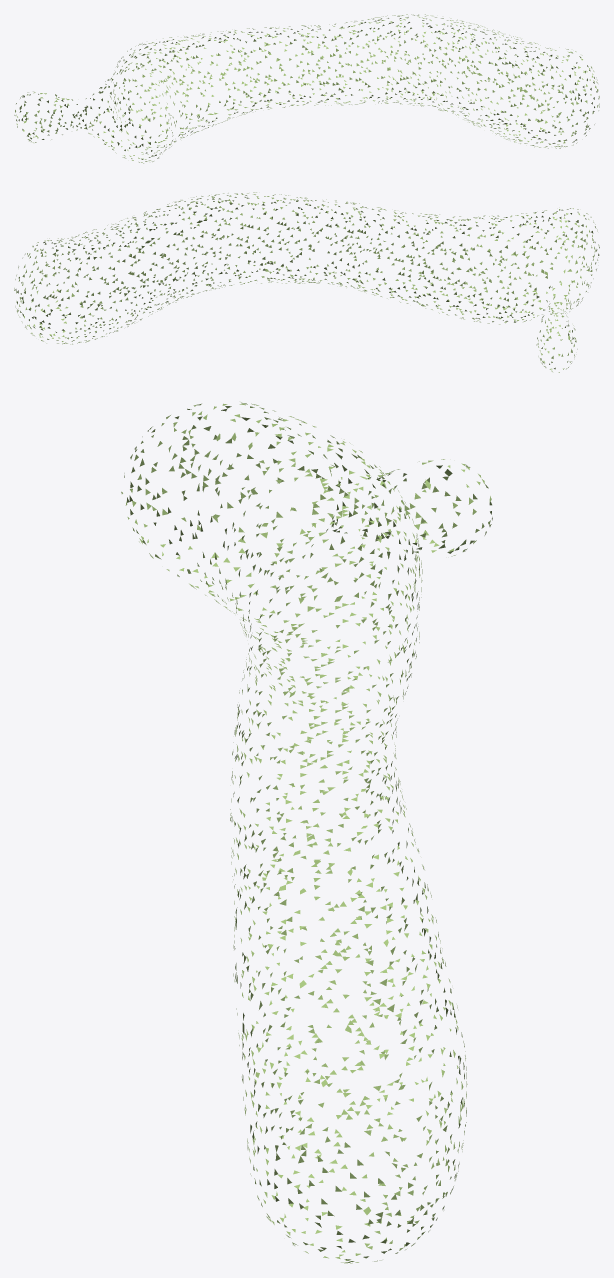
Rendered from morph_012.glb.
3 renders of one model, top to bottom at view 1: azimuth 30°, elevation 25°; view 2: azimuth 150°, elevation 25°; view 3: azimuth 270°, elevation 25°, orthographic. The views are drawn at different scales.
Bounding box in the file's own units: 130 × 47.9 × 38.49.
